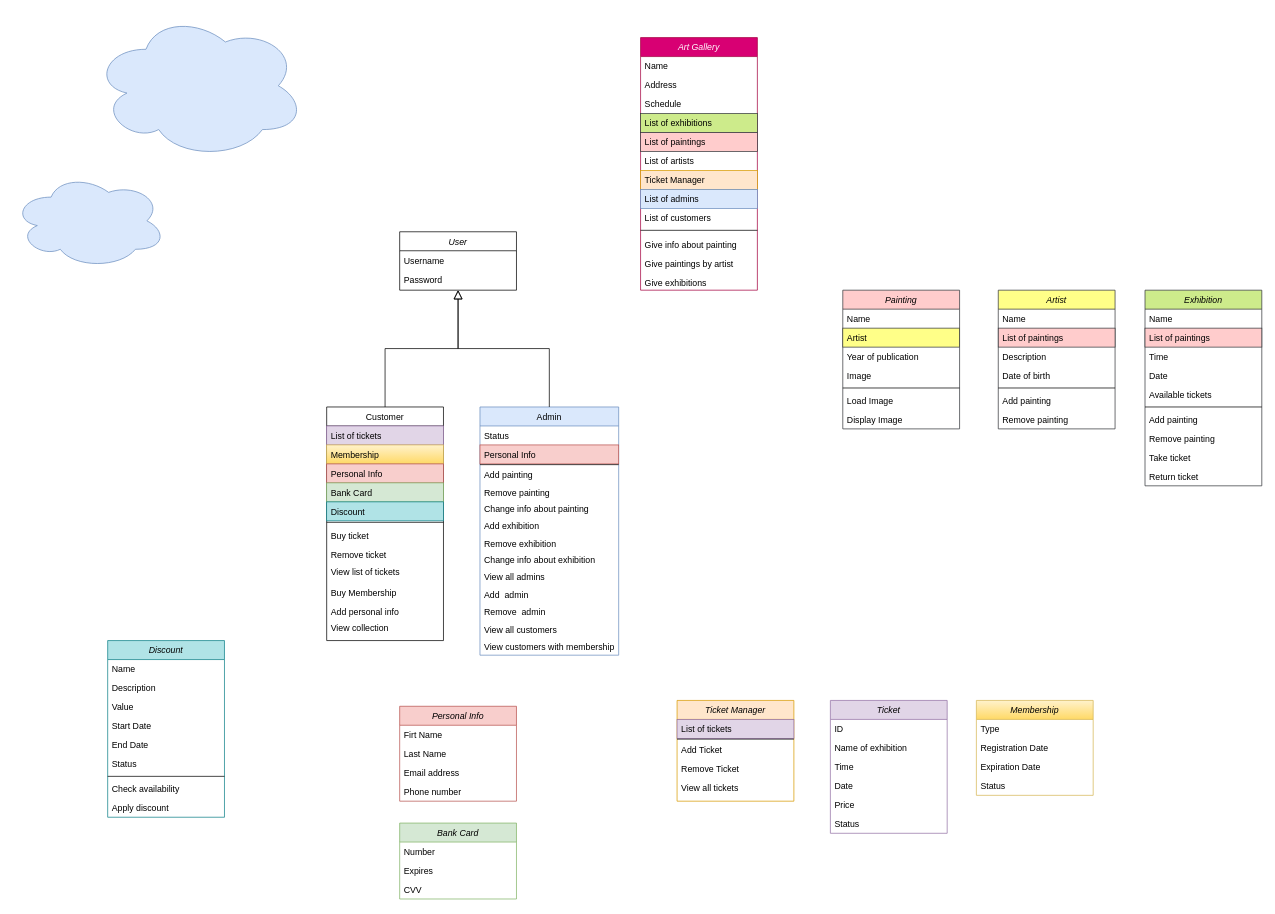
Some shapes in this 1275 by 914 pixel diagram are drawn without their labels. The centre of each missing label's shape, as x and y in pixels:
On all web sites was tab "Visit": (89,220)
Your write the name of artist, I give you him works: (198,85)
